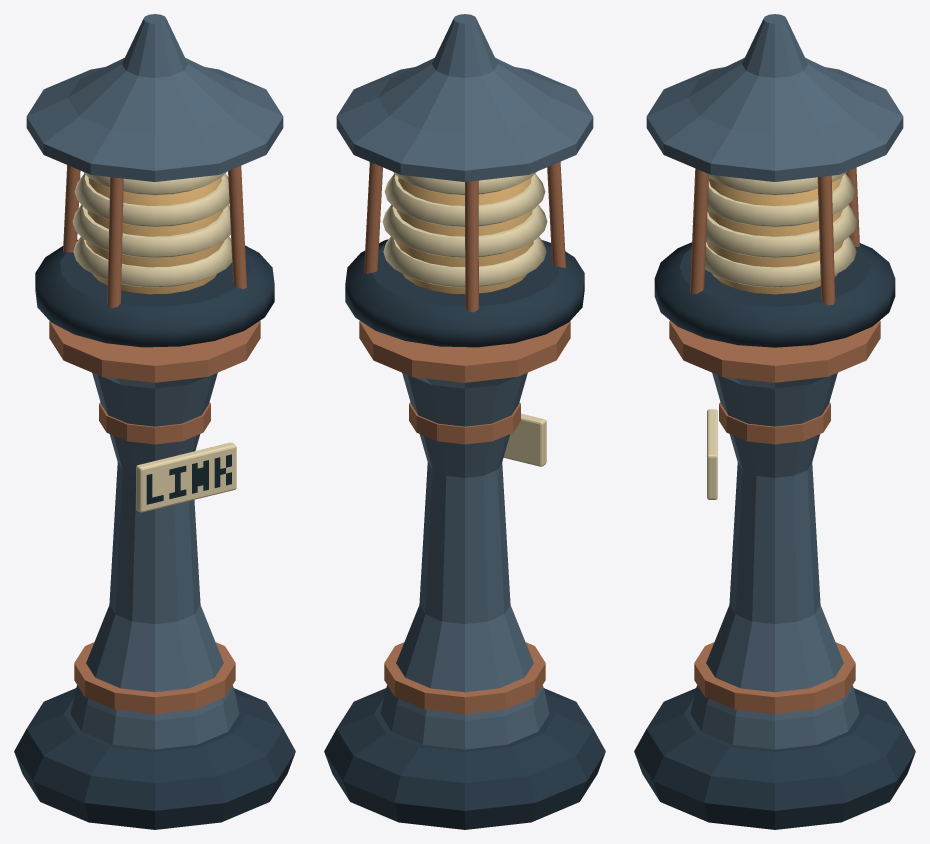
3 views of the same model, side by side, from view 1: azimuth 30°, elevation 25°; view 2: azimuth 150°, elevation 25°; view 3: azimuth 270°, elevation 25° (orthographic).
Visible parts, largest first — view 1: PR112 enamel and hardware; view 2: PR112 enamel and hardware; view 3: PR112 enamel and hardware.
Boxes of the visible parts, <box> form: PR112 enamel and hardware: <box>14,14,295,829</box>; PR112 enamel and hardware: <box>324,14,605,829</box>; PR112 enamel and hardware: <box>634,14,915,829</box>.
Bounding box in the file's own units: 0.7 × 2.07 × 0.7.
